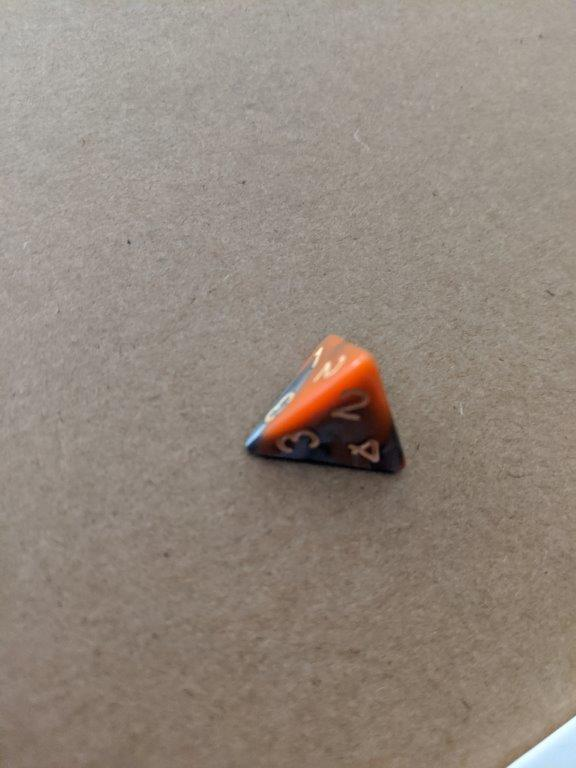d4-2: (240, 325, 410, 485)
